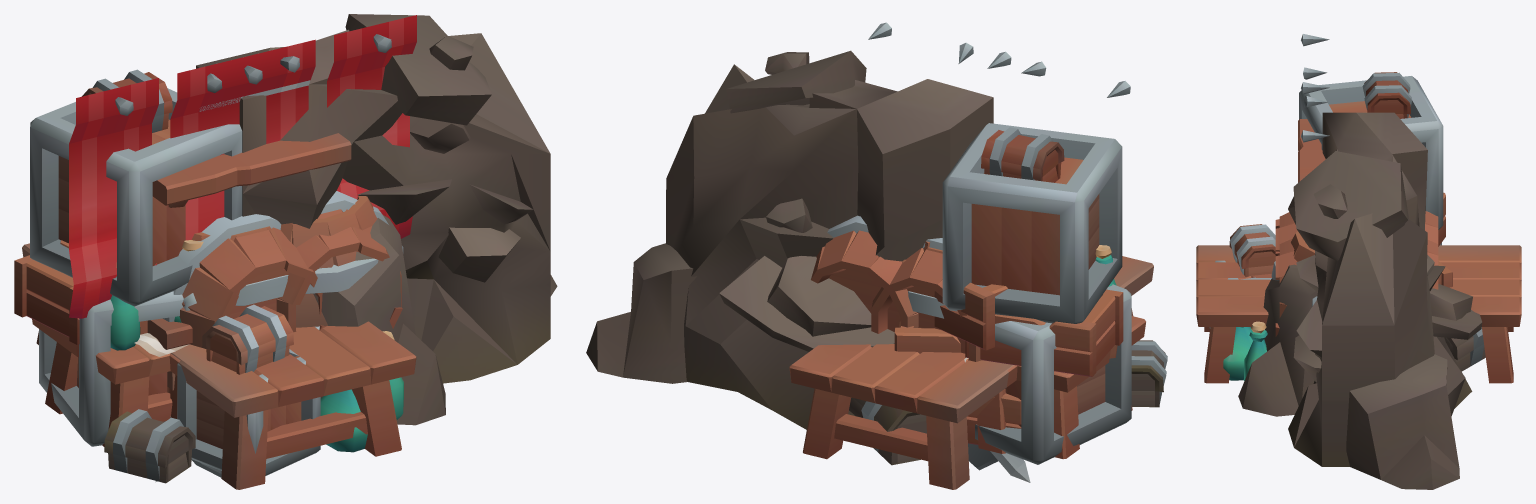
The model's file is kay_dungeon.glb.
3 renders of one model, left to right at view 1: azimuth 30°, elevation 25°; view 2: azimuth 150°, elevation 25°; view 3: azimuth 270°, elevation 25°, orthographic. The views are drawn at different scales.
Parts seen in each view (by area): view 1: rubble_half, box_stacked, banner_triple_red, table_long, keg_decorated, keg, shelves, barrel_large, banner_patternA_red; view 2: rubble_half, box_stacked, table_long, keg_decorated, crates_stacked, keg, sword_shield, table_medium_tablecloth, banner_triple_red, barrel_large; view 3: rubble_half, table_long, box_stacked, keg_decorated, shelves, keg, banner_triple_red, crates_stacked.
Boxes of the visible parts, bbox=[...] form: rubble_half: bbox=[196, 14, 557, 425]; box_stacked: bbox=[30, 69, 403, 483]; banner_triple_red: bbox=[69, 15, 416, 318]; table_long: bbox=[22, 243, 416, 489]; keg_decorated: bbox=[14, 191, 403, 446]; keg: bbox=[163, 214, 326, 348]; shelves: bbox=[147, 133, 351, 349]; barrel_large: bbox=[192, 226, 287, 305]; banner_patternA_red: bbox=[170, 58, 310, 118]; rubble_half: bbox=[586, 50, 993, 429]; box_stacked: bbox=[849, 123, 1167, 465]; table_long: bbox=[789, 256, 1153, 489]; keg_decorated: bbox=[811, 215, 1145, 459]; crates_stacked: bbox=[894, 259, 1021, 444]; keg: bbox=[871, 238, 981, 361]; sword_shield: bbox=[968, 443, 1030, 482]; table_medium_tablecloth: bbox=[964, 357, 1017, 453]; banner_triple_red: bbox=[868, 22, 1130, 97]; barrel_large: bbox=[908, 241, 944, 328]; rubble_half: bbox=[1238, 112, 1482, 489]; table_long: bbox=[1196, 245, 1521, 383]; box_stacked: bbox=[1209, 72, 1485, 380]; keg_decorated: bbox=[1275, 238, 1438, 336]; shelves: bbox=[1298, 119, 1325, 182]; keg: bbox=[1275, 211, 1438, 251]; banner_triple_red: bbox=[1301, 34, 1329, 142]; crates_stacked: bbox=[1438, 192, 1452, 287].
Size of the model in its own units: 5.85 by 4.54 by 4.
1 material, 1 textured.
